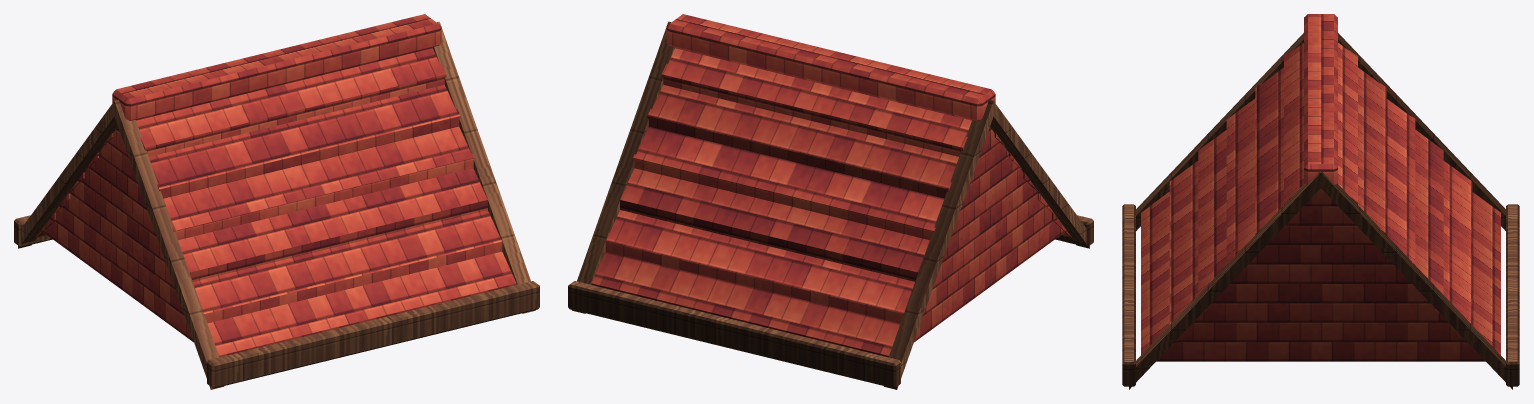
Rendered from roof.glb.
3 renders of one model, left to right at view 1: azimuth 30°, elevation 25°; view 2: azimuth 150°, elevation 25°; view 3: azimuth 270°, elevation 25°, orthographic.
Visible parts, largest first — view 1: roof; view 2: roof; view 3: roof.
Part boxes in pixels (x1,y1,x2,y2): roof: [14, 14, 539, 389]; roof: [568, 14, 1093, 389]; roof: [1122, 14, 1519, 389].
Size of the model in its own units: 1.1 by 0.715 by 1.16.
Materials: 4 (4 with a texture image).
